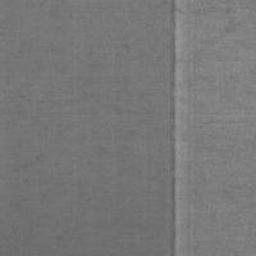Welding line: (167, 0, 176, 172), (170, 175, 175, 256)
